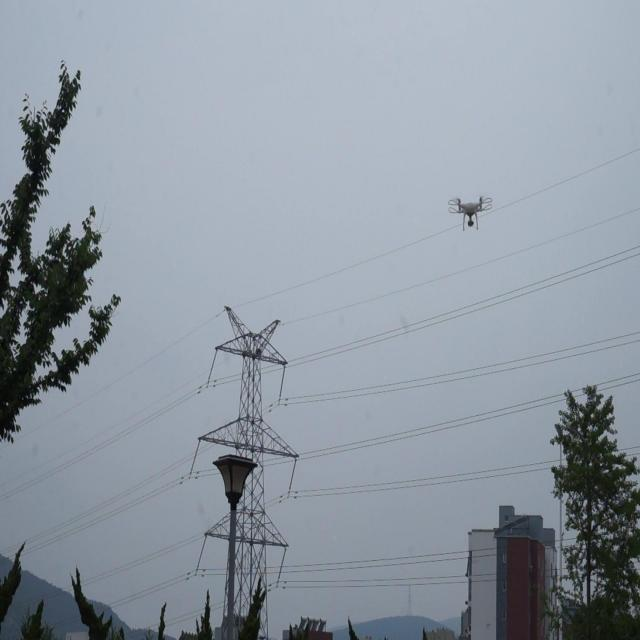UAV: (447, 196, 493, 232)
